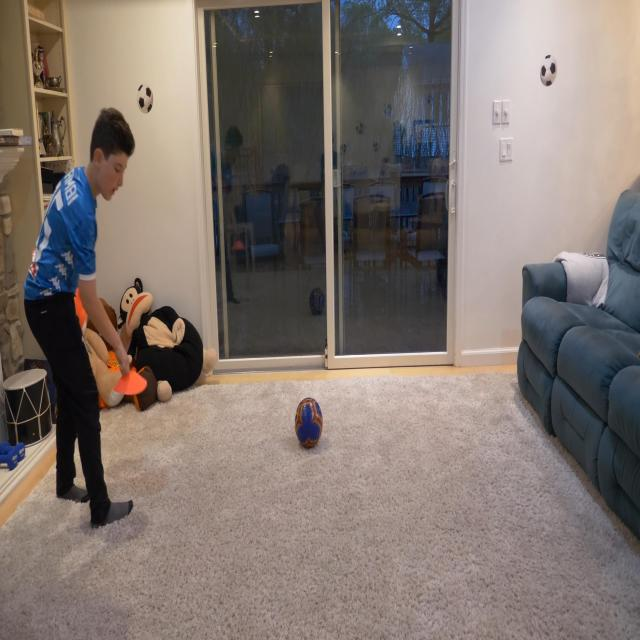Soccer Ball: (295, 397, 323, 451)
